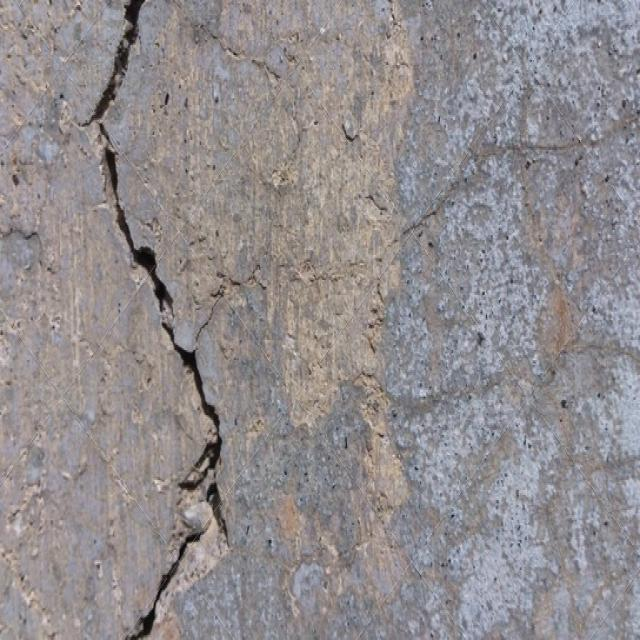crack: (83, 1, 224, 442), (130, 558, 172, 637)
spall: (153, 444, 234, 624)
